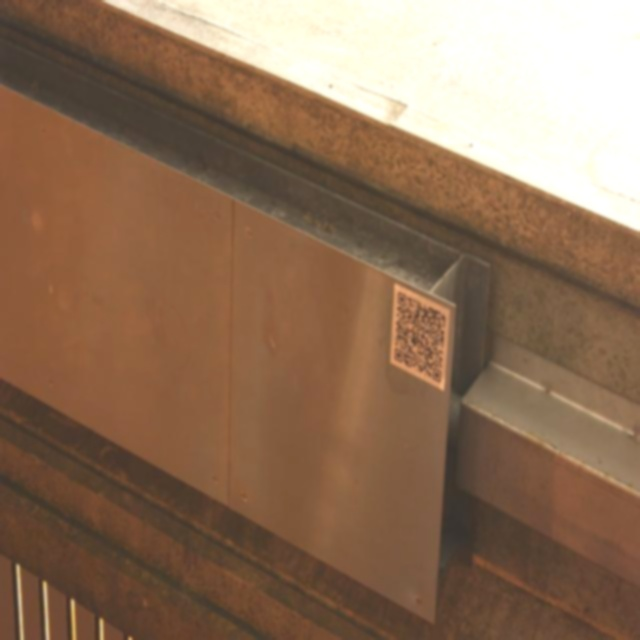qr-code: (394, 292, 446, 383)
